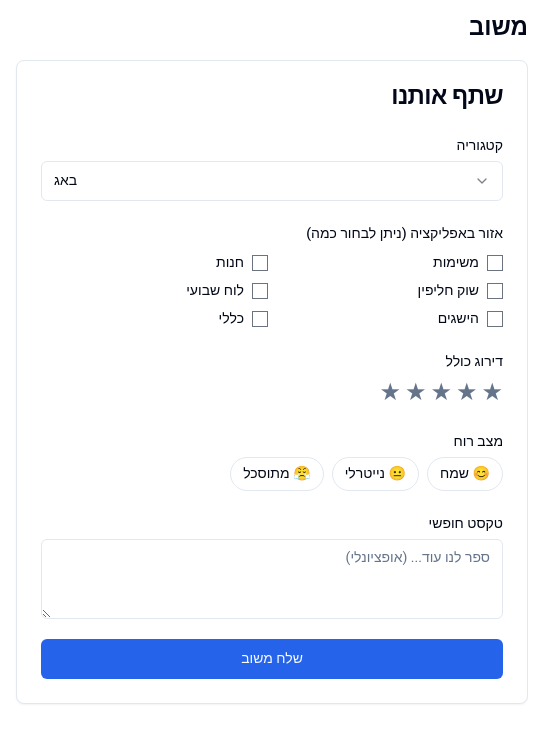
FeedbackPage › shows validation error when submitting without mood
This screenshot has width=540, height=732.
Click the button named "3 כוכבים": (441,393) left=430, top=377, right=452, bottom=409
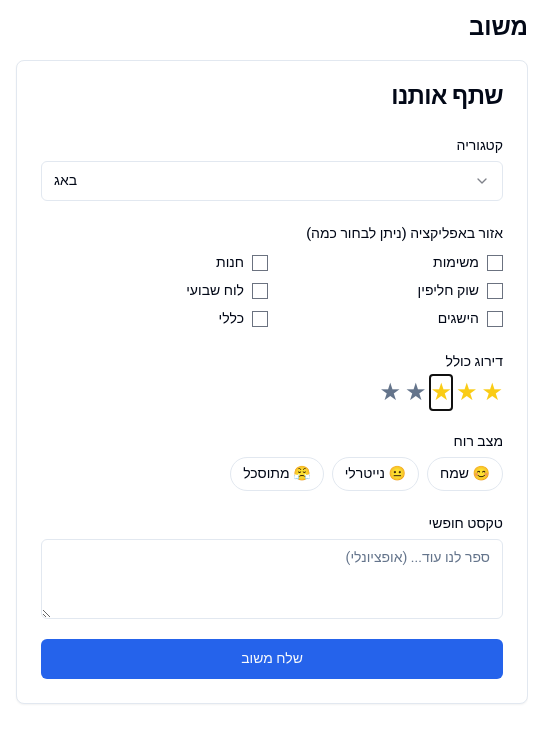
Click the button "שלח משוב": (272,659) left=41, top=639, right=503, bottom=679
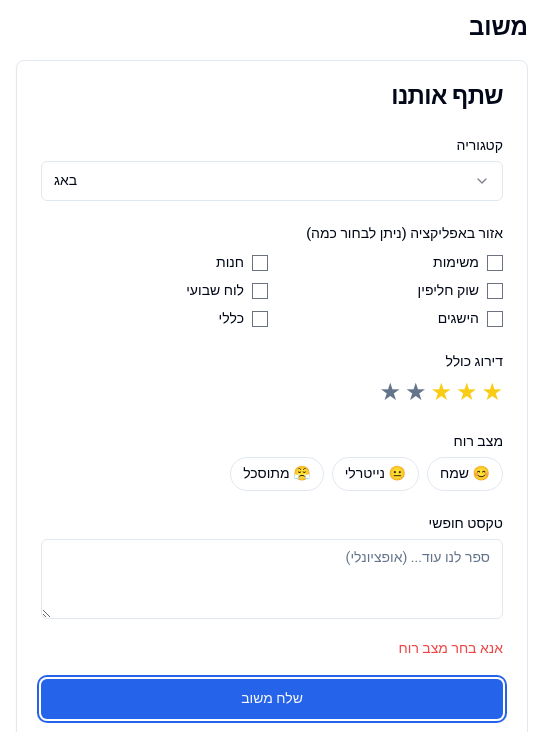
expect the message reads "אנא בחר מצב רוח": met, box left=398, top=638, right=503, bottom=659
